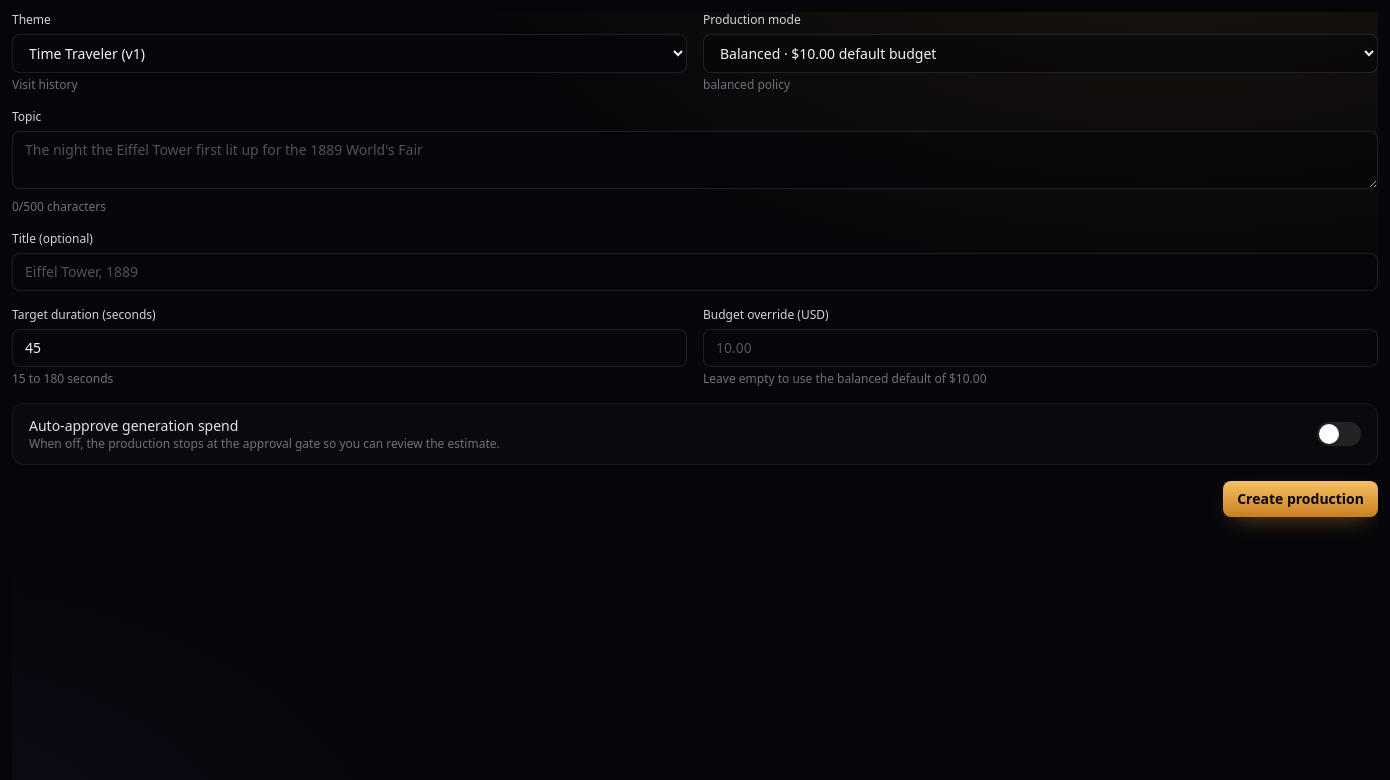
Test: CreateProductionForm › blocks submission and shows errors for invalid input
Type "ab" into the text box labelled "Topic".
click(695, 160); type("ab")  # box [12,131,1378,189]
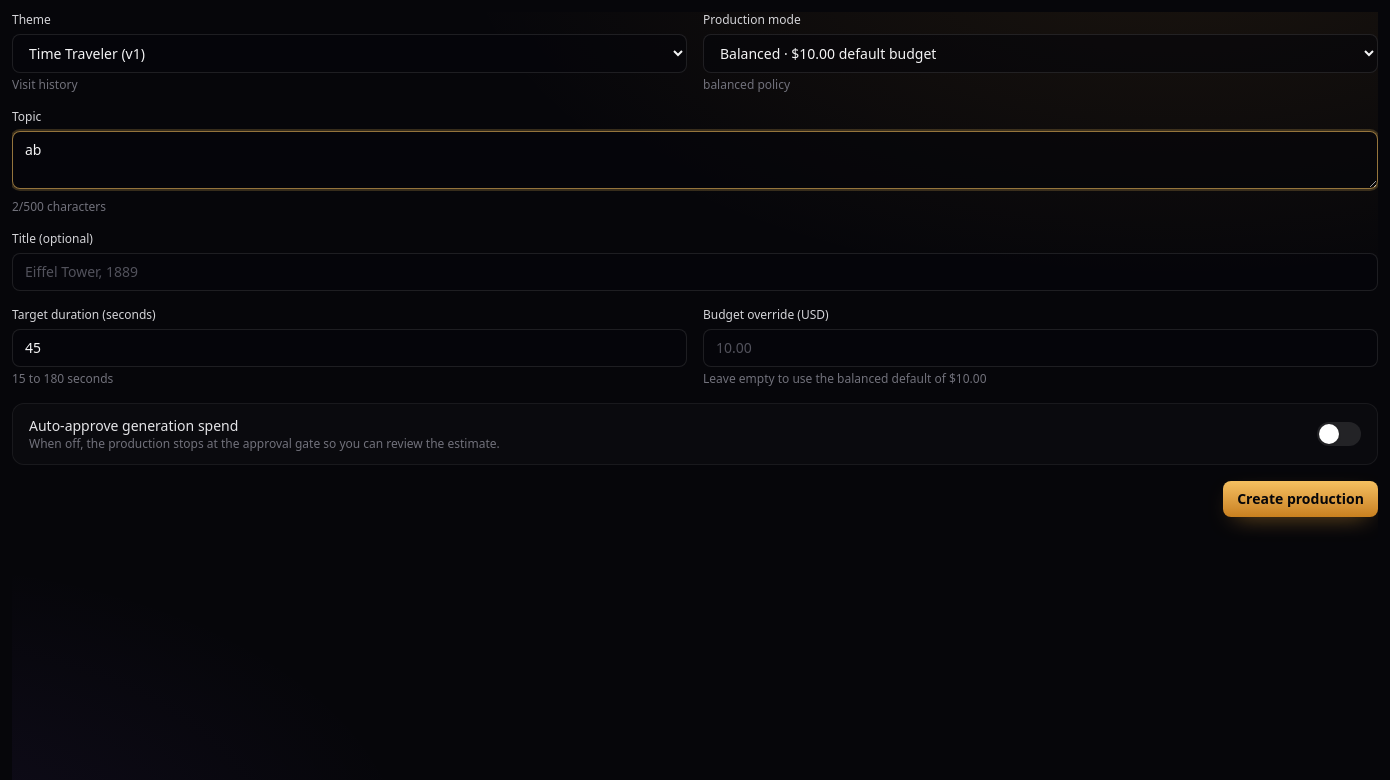
Replace the text in the number field labelled "Target duration (seconds)" with "200" at {"x": 350, "y": 348}, box [12,329,687,367]
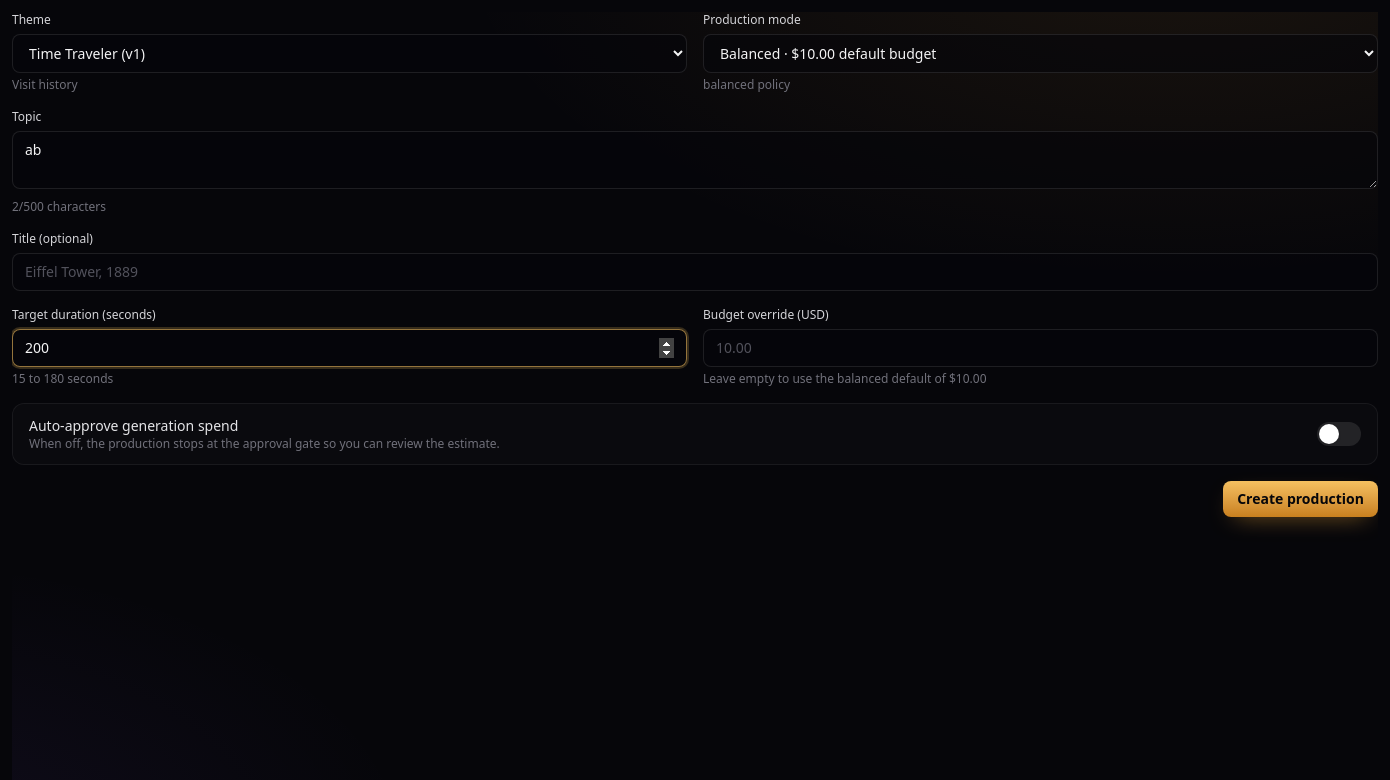
Click the button "Create production".
click(1301, 499)  # box [1223,481,1378,517]
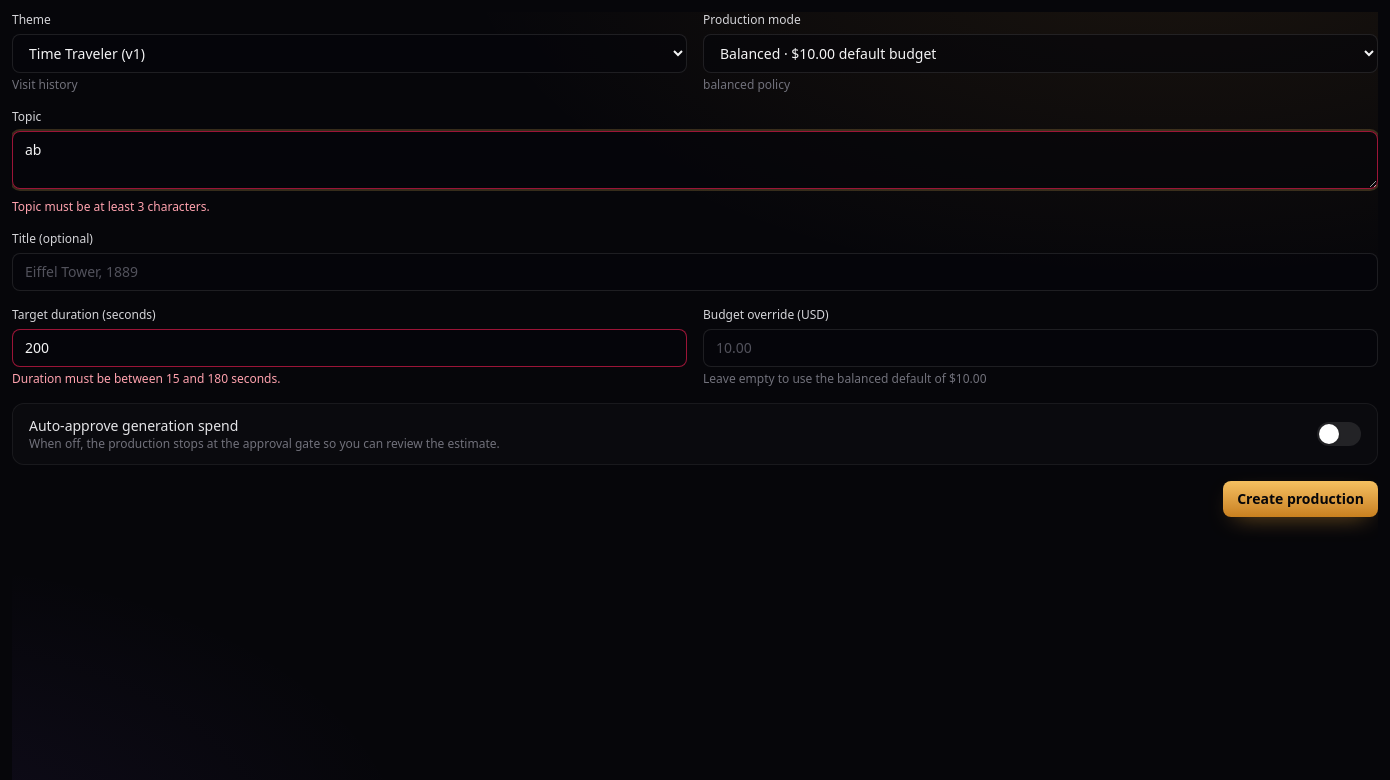
Result: the text "Topic must be at least 3 characters." is shown at [12,198,210,215]
Result: the text "Duration must be between 15 and 180 seconds." is shown at [12,370,280,387]
